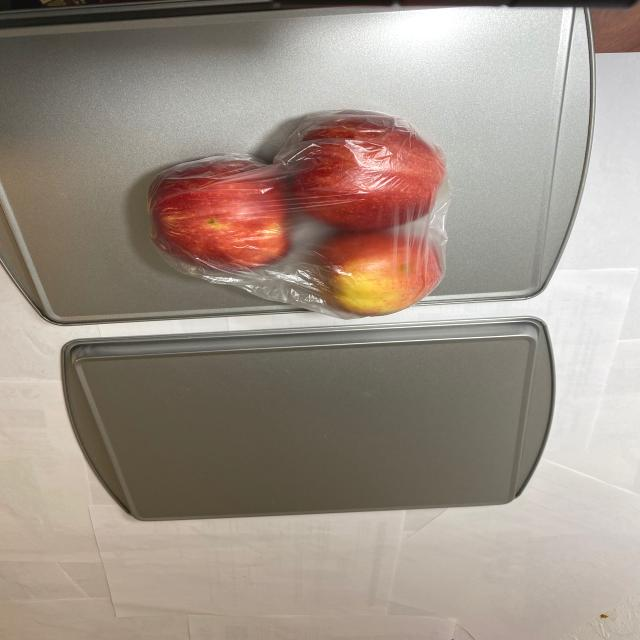apple: (132, 109, 447, 318)
